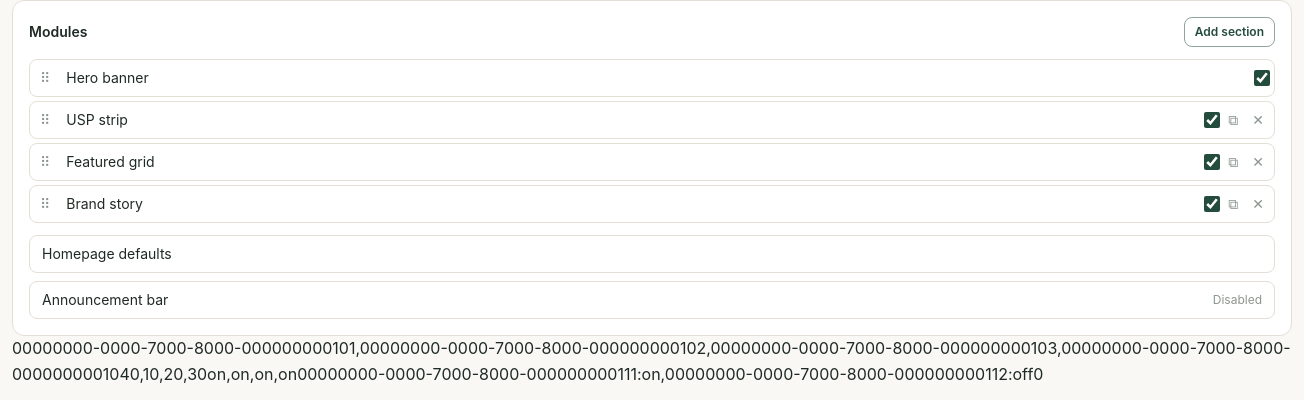
ModuleTree › shows the announcement bar pseudo-node with its enabled state and selects it
What coordinates should you click on to do the following:
click the button "Announcement bar Disabled"
I would click on:
 (105, 300)
Its box is top-left (29, 281), bottom-right (1275, 319).
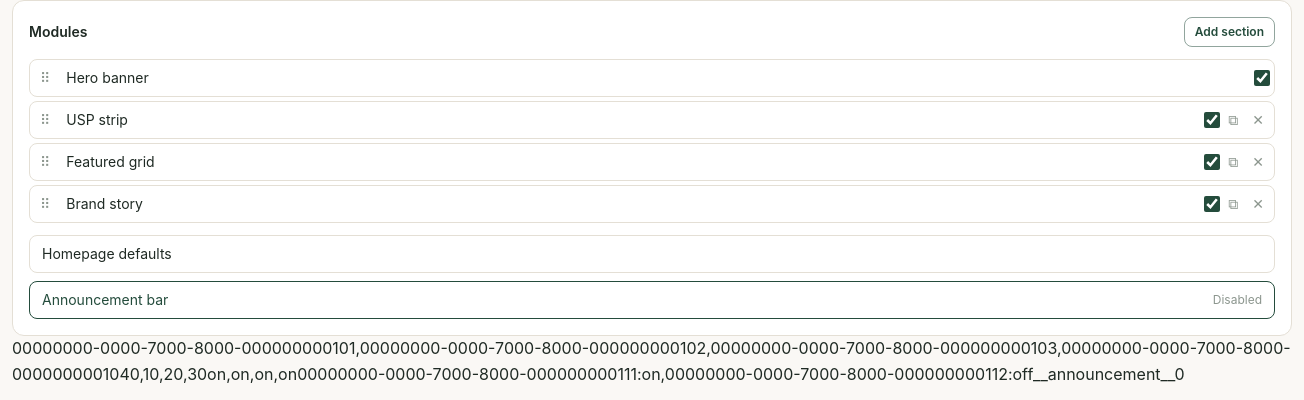
Check: the text with test id "selected-section" reads "__announcement__", box top-left (1033, 364), bottom-right (1174, 384)
